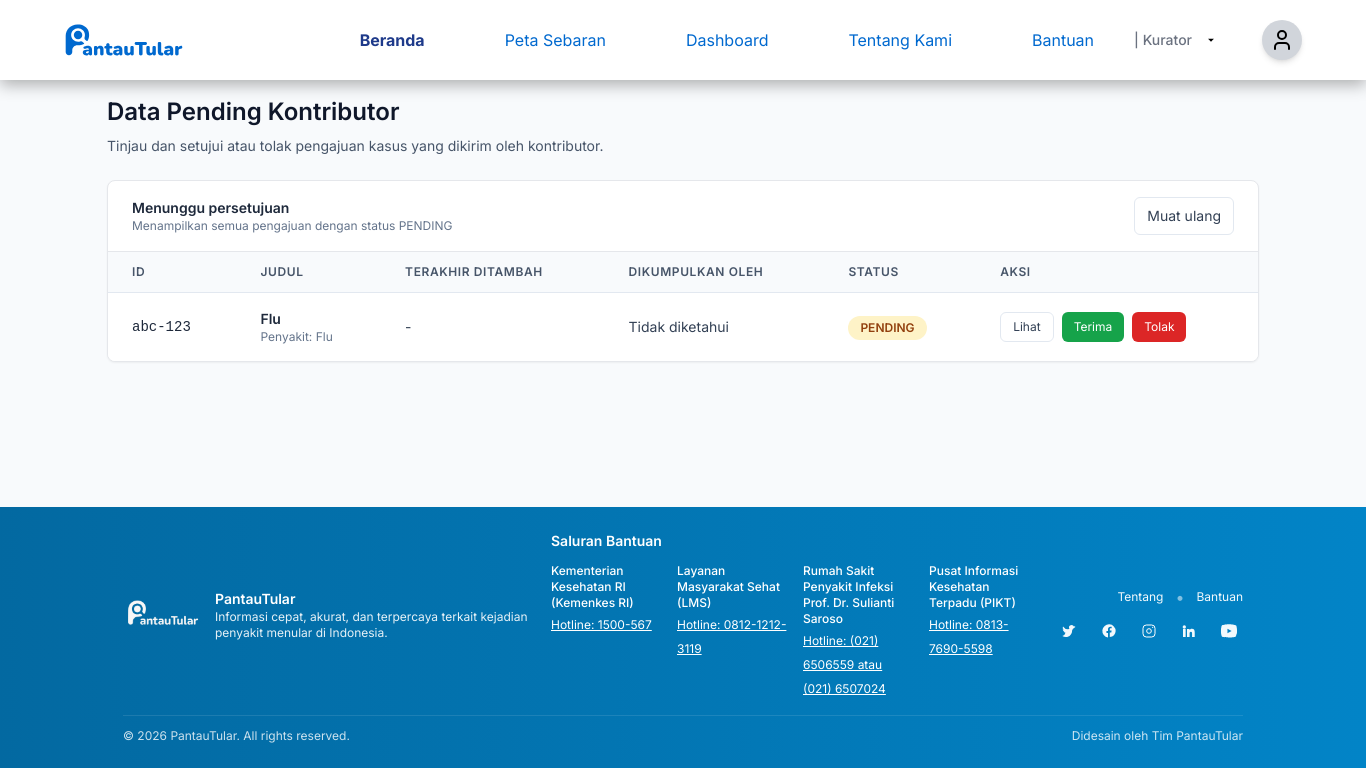
Scenario: action modal textarea placeholder differs for approve and reject
This screenshot has width=1366, height=768.
Approve modal placeholder
Click the button "Terima" at (1093, 327), box [1062,312,1124,342]
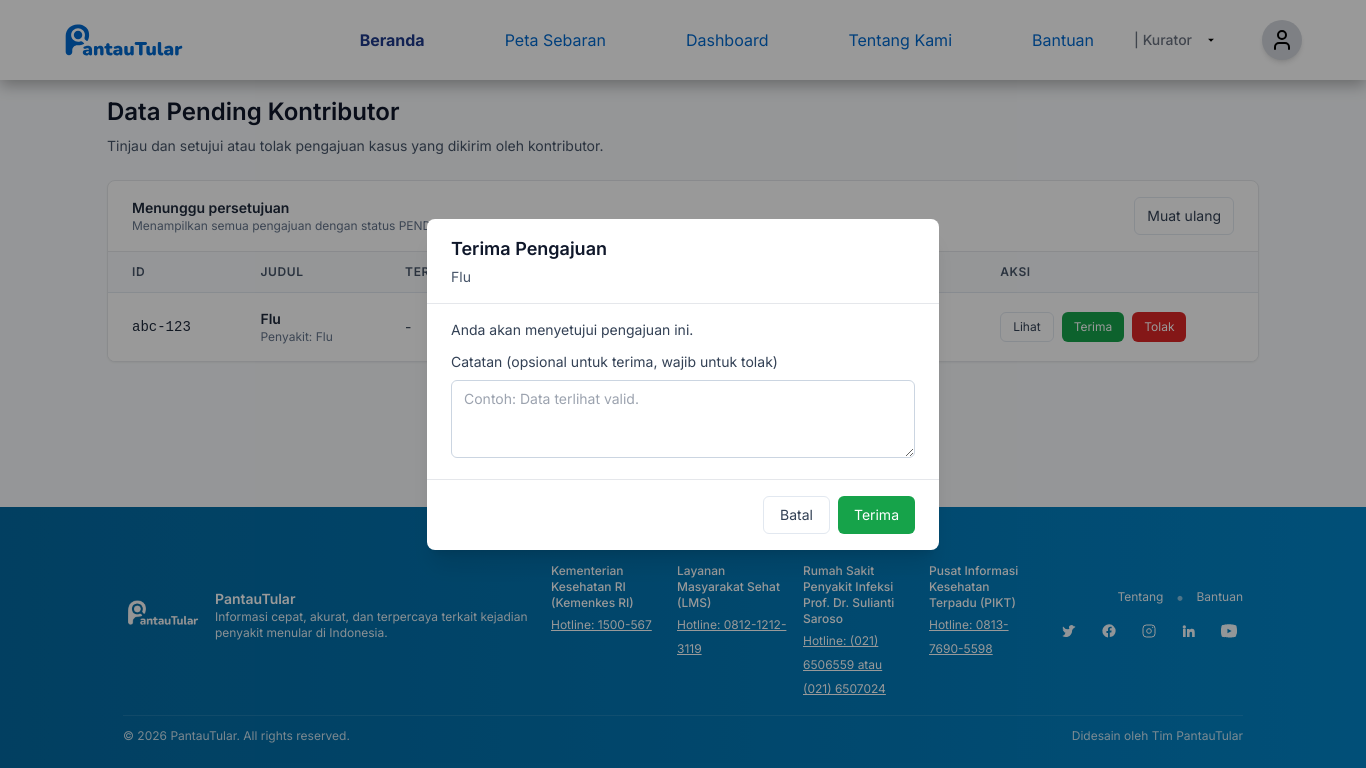
expect the heading "Terima Pengajuan" is shown: met, box [451,238,607,258]
expect the text box with placeholder "Contoh: Data terlihat valid." is shown: met, box [451,380,915,458]
Click the button "Batal" at (796, 514), box [763,496,830,534]
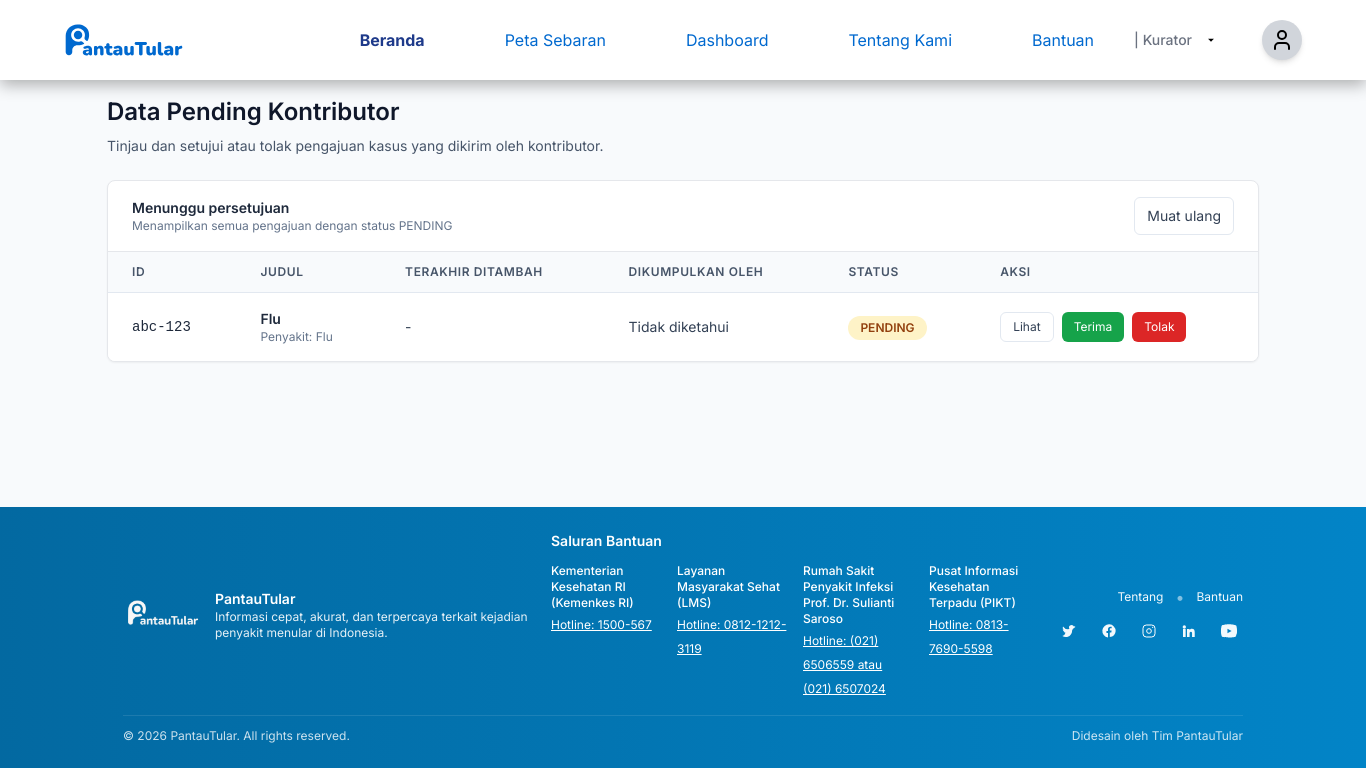
Reject modal placeholder
Click the button "Tolak" at (1159, 327), box [1132,312,1186,342]
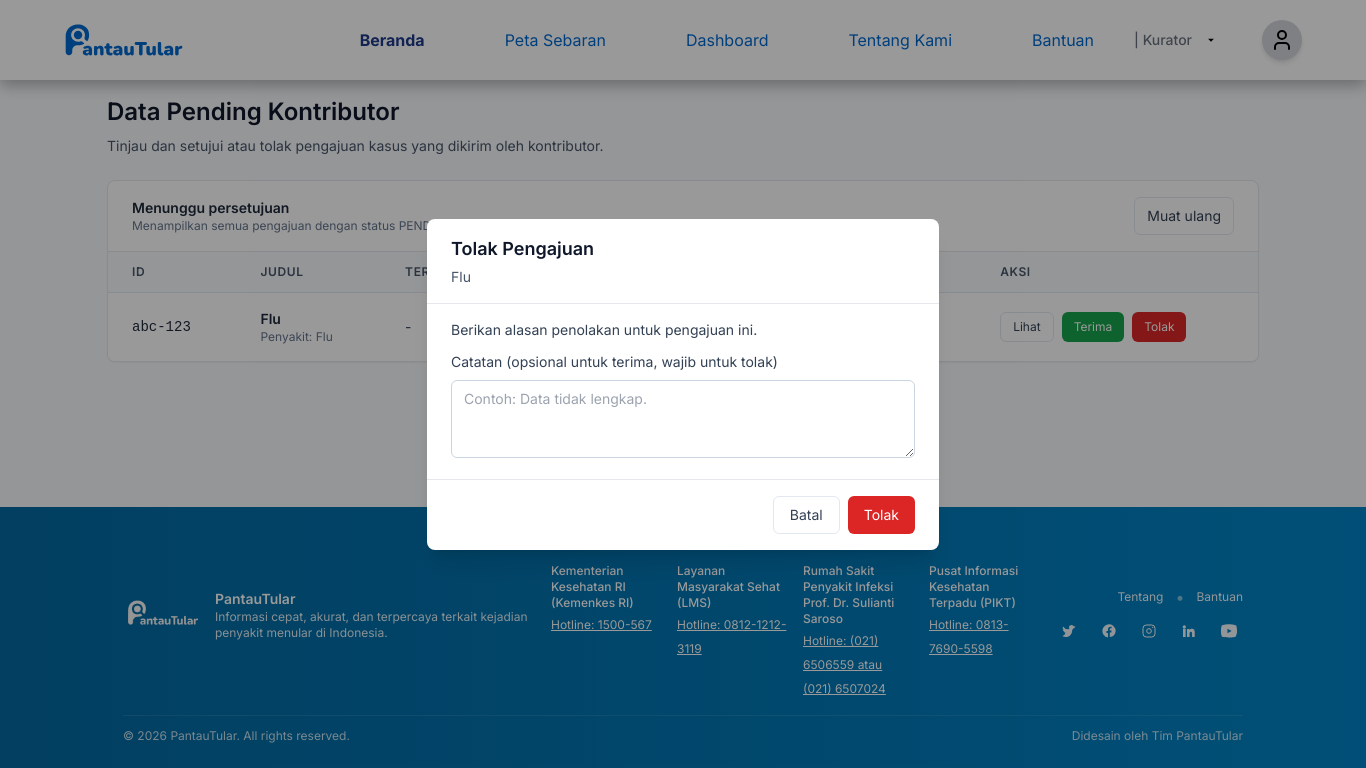
expect the text box with placeholder "Contoh: Data tidak lengkap." is shown: met, box [451,380,915,458]
